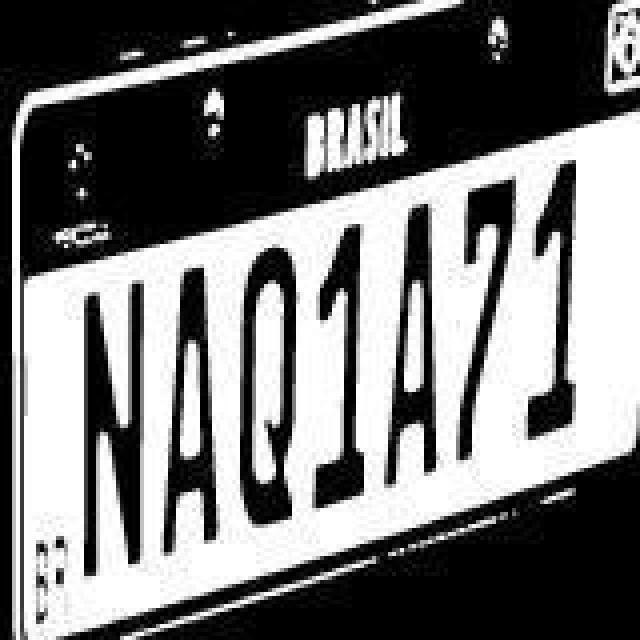1: (520, 154, 592, 454), (310, 212, 378, 516)
7: (452, 164, 524, 476)
A: (156, 252, 228, 564), (380, 194, 452, 502)
N: (74, 280, 150, 584)
Q: (236, 240, 308, 544)
